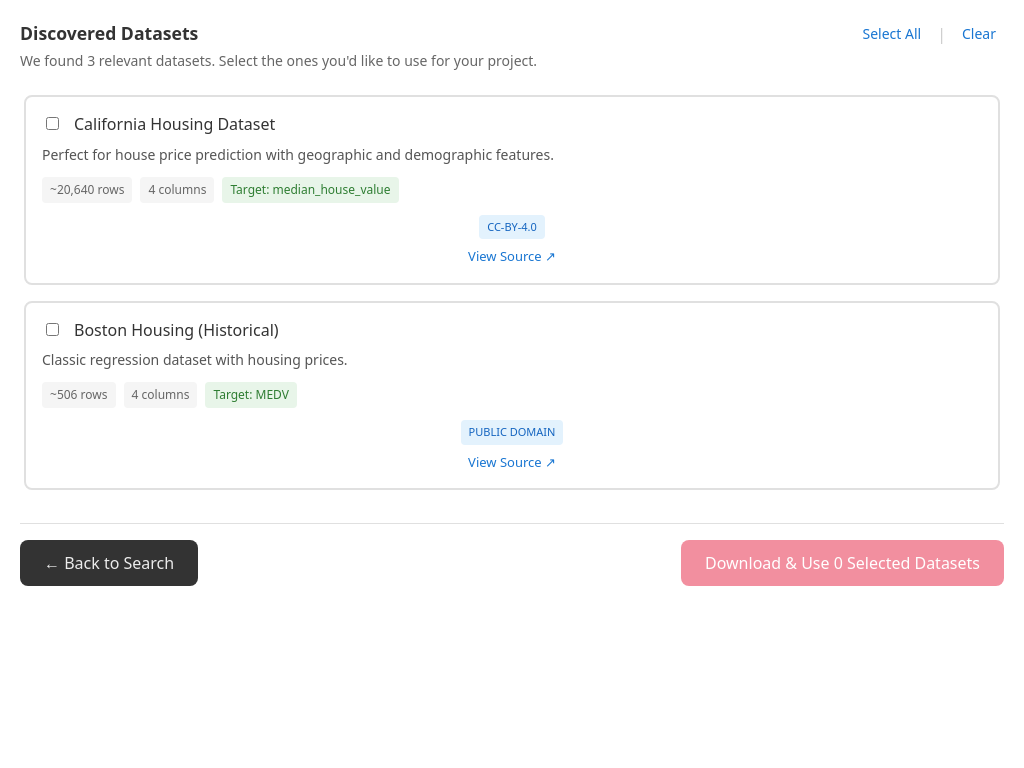
Scenario: DiscoveredDatasetsList › allows selecting datasets by clicking cards
Check: the button "Download & Use 0 Selected Datasets" is disabled, box x1=681 y1=540 x2=1004 y2=586
Note: Click on first dataset card
Click the heading "California Housing Dataset": (175, 125) x1=74 y1=113 x2=275 y2=136
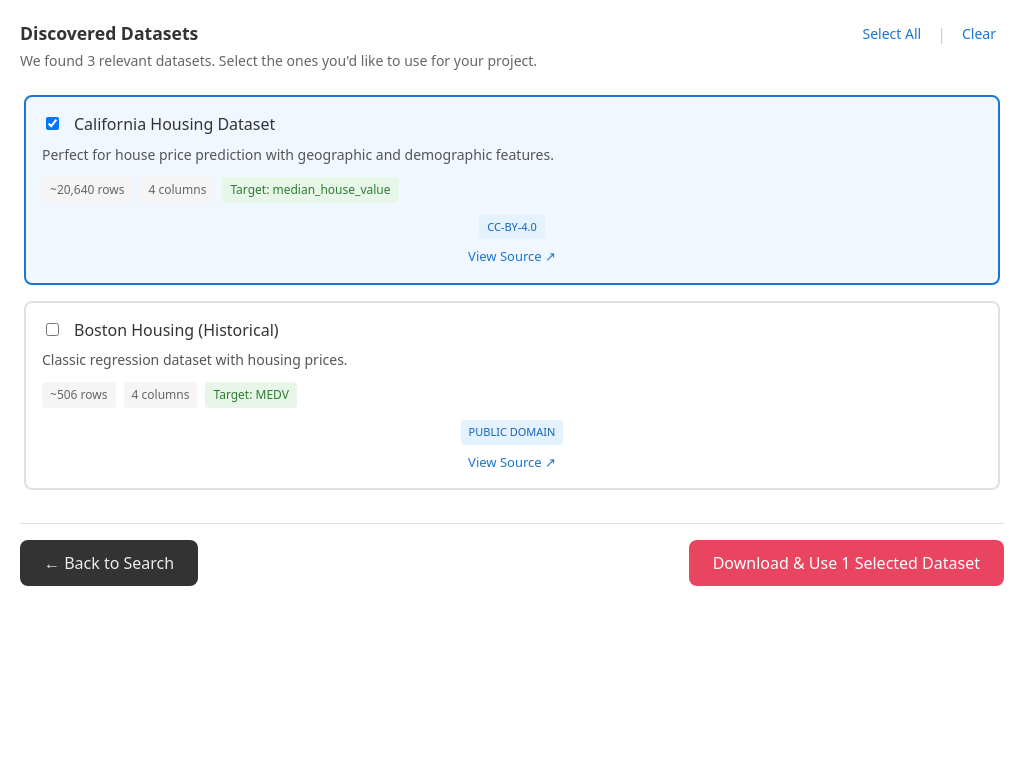
Check: the button "Download & Use 1 Selected Dataset" is enabled, box x1=689 y1=540 x2=1004 y2=586
